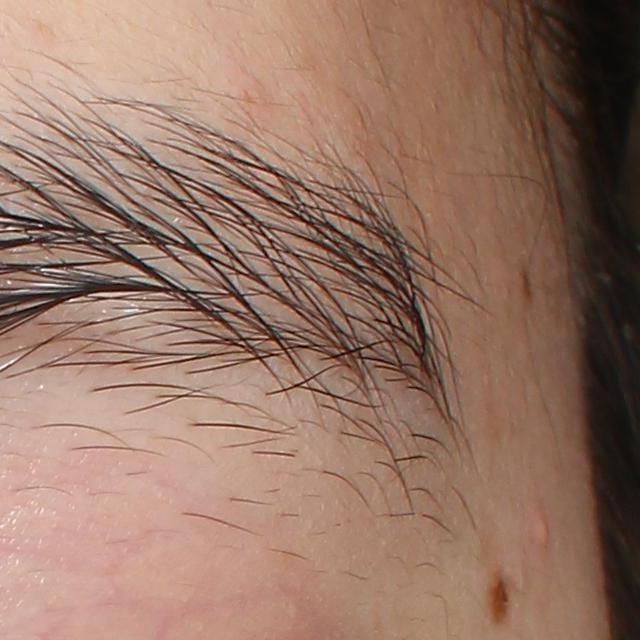nevus: (483, 569, 511, 628)
papule: (530, 500, 557, 556)
